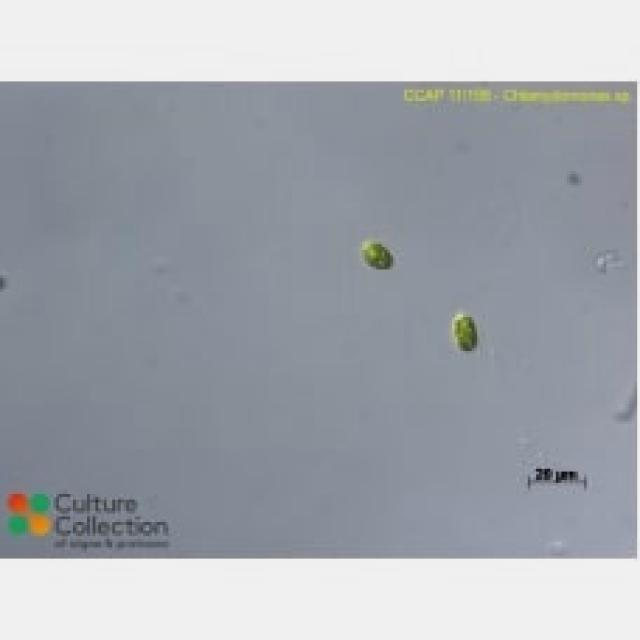Green Algae: (452, 308, 483, 354), (359, 238, 396, 270)
